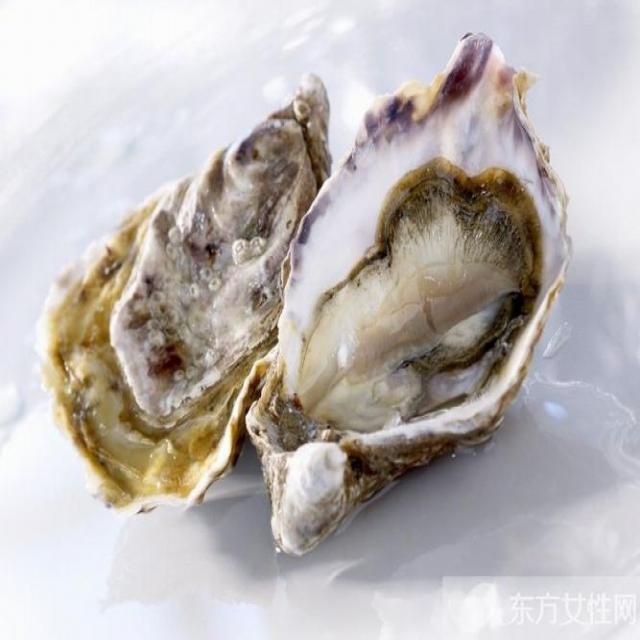Oyster- Indeterminate: (35, 70, 332, 524)
Oyster-Open: (243, 24, 578, 554)
